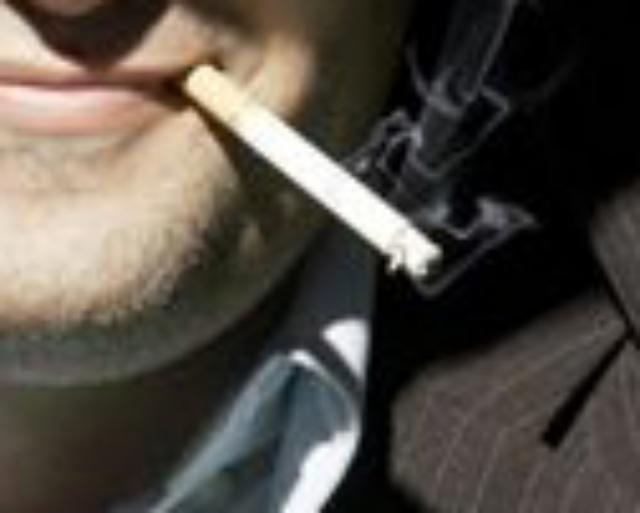Cigarette: (160, 48, 440, 283)
